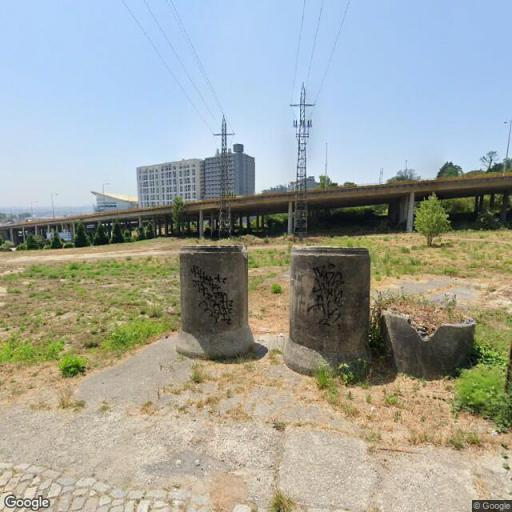ss_1: (290, 80, 316, 238), (213, 111, 236, 240)
